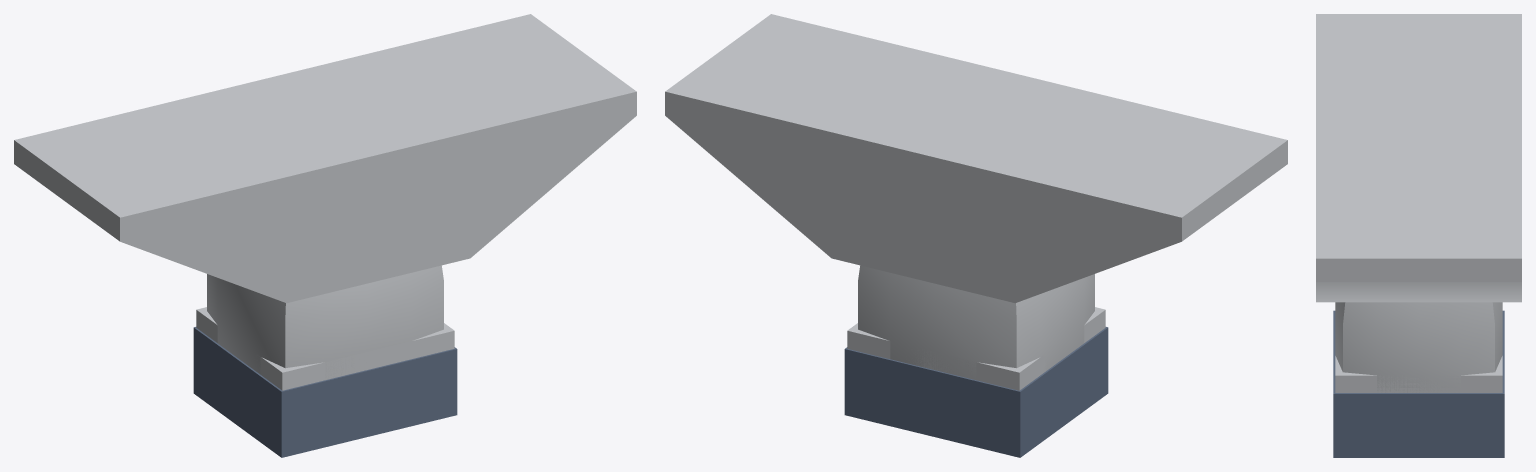
File: dragon_bridge_pier.glb
The picture shows the model from 3 angles, left to right: view 1: azimuth 30°, elevation 25°; view 2: azimuth 150°, elevation 25°; view 3: azimuth 270°, elevation 25°; orthographic projection. The views are drawn at different scales.
Parts seen in each view (by area): view 1: dragon_bridge_pier; view 2: dragon_bridge_pier; view 3: dragon_bridge_pier.
Boxes of the visible parts, x1,y1,x2,y2 form: dragon_bridge_pier: [14, 14, 636, 457]; dragon_bridge_pier: [665, 14, 1287, 457]; dragon_bridge_pier: [1316, 14, 1521, 457].
Size of the model in its own units: 9 by 4.8 by 3.2.
